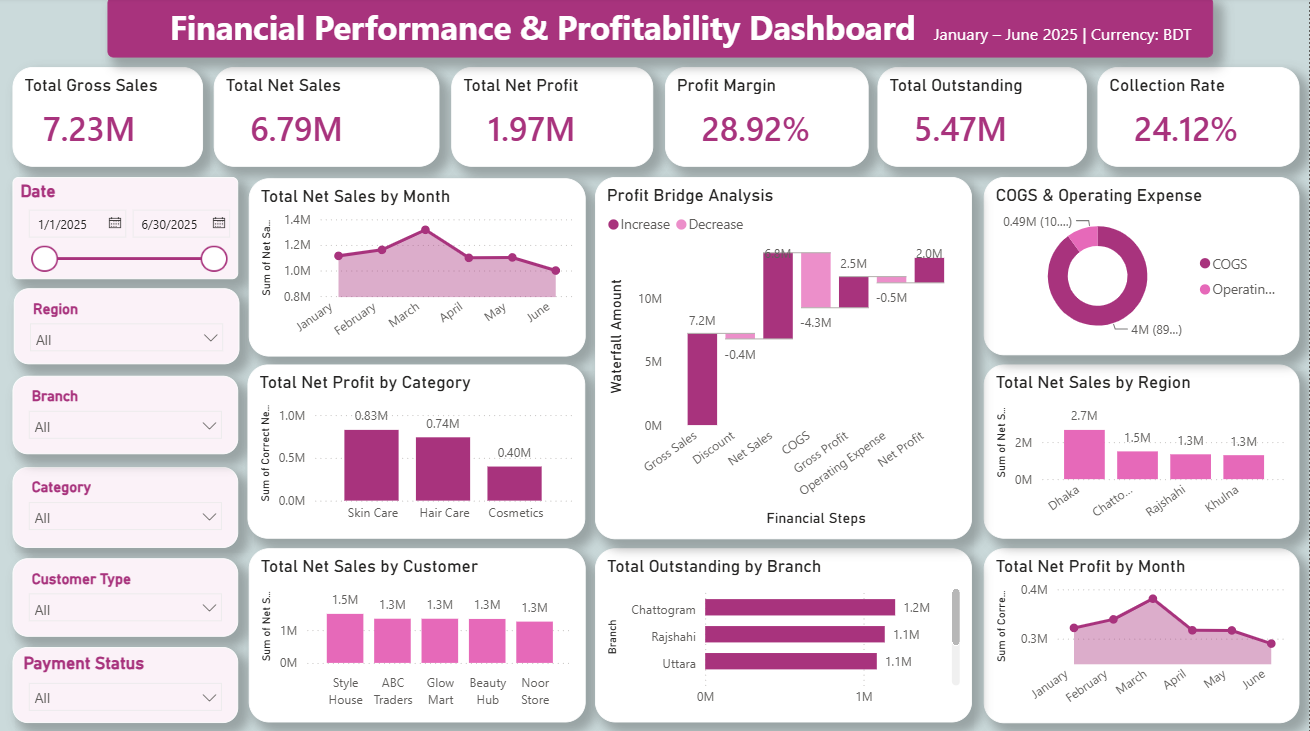

Layout of this report page (visuals, bound fields, positions):
{"tool":"powerbi","page":{"name":"Page 1","canvas":[1280,720],"ordinal":0},"visuals":[{"type":"cardVisual","title":"Total Gross Sales","fields":{"Data":["Sum(Transactions.Correct Gross Sales)"]},"box":[12.3,68.6,186.6,97.4],"z":0},{"type":"cardVisual","title":"Total Net Sales","fields":{"Data":["Sum(Transactions.Net Sales)"]},"box":[208.6,68.6,220.9,97.4],"z":1000},{"type":"cardVisual","title":"Total Net Profit","fields":{"Data":["Sum(Transactions.Correct Net Profit)"]},"box":[441.9,68.6,197.6,97.4],"z":2000},{"type":"cardVisual","title":"Profit Margin ","fields":{"Data":["Transactions.Profit Margin %"]},"box":[650.4,68.6,199,97.4],"z":3000},{"type":"cardVisual","title":"Total Outstanding ","fields":{"Data":["Sum(Transactions.Outstanding)"]},"box":[859,68.6,204.5,97.4],"z":4000},{"type":"cardVisual","title":"Collection Rate ","fields":{"Data":["Transactions.Collection Rate %"]},"box":[1073.1,68.6,197.6,97.4],"z":5000},{"type":"slicer","title":"Date","fields":{"Values":["Transactions.New Invoice Date"]},"box":[12.2,176.1,221.3,108.8],"z":6000},{"type":"slicer","fields":{"Values":["Transactions.Region"]},"box":[13.7,285.4,220.9,74.1],"z":7000},{"type":"slicer","fields":{"Values":["Transactions.Category"]},"box":[12.3,459.7,220.9,79.6],"z":8000},{"type":"slicer","fields":{"Values":["Transactions.Customer Type"]},"box":[12.3,548.9,220.9,76.8],"z":9000},{"type":"slicer","title":"Payment Status","fields":{"Values":["Transactions.New Payment Status"]},"box":[12.3,635.3,220.9,74.1],"z":10000},{"type":"slicer","fields":{"Values":["Transactions.Branch"]},"box":[12.3,370.5,220.9,76.8],"z":11000},{"type":"lineChart","title":"Total Net Sales by Month","fields":{"Y":["Sum(Transactions.Net Sales)"],"Category":["Transactions.New Invoice Date.Variation.Date Hierarchy.Month"]},"box":[242.9,177,329.3,174.3],"z":12000},{"type":"lineChart","title":" Total Net Profit by Month","fields":{"Category":["Transactions.New Invoice Date.Variation.Date Hierarchy.Month"],"Y":["Sum(Transactions.Correct Net Profit)"]},"box":[961.9,539.3,308.7,171.5],"z":13000},{"type":"clusteredColumnChart","title":"Total Net Sales by Region","fields":{"Category":["Transactions.Region"],"Y":["Sum(Transactions.Net Sales)"]},"box":[961.9,359.5,308.7,170.2],"z":14000},{"type":"clusteredColumnChart","title":"Total Net Profit by Category","fields":{"Y":["Sum(Transactions.Correct Net Profit)"],"Category":["Transactions.Category"]},"box":[241.5,359.5,330.7,170.2],"z":15000},{"type":"donutChart","title":"COGS & Operating Expense","fields":{"Y":["Sum(Transactions.COGS)","Sum(Transactions.Correct Operating Expense)"]},"box":[961.9,175.6,308.7,174.3],"z":16000},{"type":"clusteredColumnChart","title":"Total Net Sales by Customer","fields":{"Category":["Transactions.Customer"],"Y":["Sum(Transactions.Net Sales)"]},"box":[242.9,539.3,329.3,170.2],"z":17000},{"type":"clusteredBarChart","title":"Total Outstanding by Branch","fields":{"Y":["Sum(Transactions.Outstanding)"],"Category":["Transactions.Branch"]},"box":[582.1,539.3,369.3,170],"z":18000},{"type":"waterfallChart","title":"Profit Bridge Analysis","fields":{"Category":["Financial Steps.Column1"],"Y":["Transactions.Waterfall Amount"]},"box":[581.8,175.6,369.1,354],"z":19000},{"type":"textbox","box":[105.7,0,1081.3,59],"z":20000}]}

Visuals, with their boxes in screenshot pixels (x1, y1, x2, y2), scaled from the page's 1280x720 canvas onto the 1310x731 screenshot:
"Total Gross Sales" cardVisual: locate(13, 70, 204, 169)
"Total Net Sales" cardVisual: locate(213, 70, 440, 169)
"Total Net Profit" cardVisual: locate(452, 70, 654, 169)
"Profit Margin " cardVisual: locate(666, 70, 869, 169)
"Total Outstanding " cardVisual: locate(879, 70, 1088, 169)
"Collection Rate " cardVisual: locate(1098, 70, 1300, 169)
"Date" slicer: locate(12, 179, 239, 289)
slicer - Transactions.Region: locate(14, 290, 240, 365)
slicer - Transactions.Category: locate(13, 467, 239, 548)
slicer - Transactions.Customer Type: locate(13, 557, 239, 635)
"Payment Status" slicer: locate(13, 645, 239, 720)
slicer - Transactions.Branch: locate(13, 376, 239, 454)
"Total Net Sales by Month" lineChart: locate(249, 180, 586, 357)
" Total Net Profit by Month" lineChart: locate(984, 548, 1300, 722)
"Total Net Sales by Region" clusteredColumnChart: locate(984, 365, 1300, 538)
"Total Net Profit by Category" clusteredColumnChart: locate(247, 365, 586, 538)
"COGS & Operating Expense" donutChart: locate(984, 178, 1300, 355)
"Total Net Sales by Customer" clusteredColumnChart: locate(249, 548, 586, 720)
"Total Outstanding by Branch" clusteredBarChart: locate(596, 548, 974, 720)
"Profit Bridge Analysis" waterfallChart: locate(595, 178, 973, 538)
textbox: locate(108, 0, 1215, 60)
